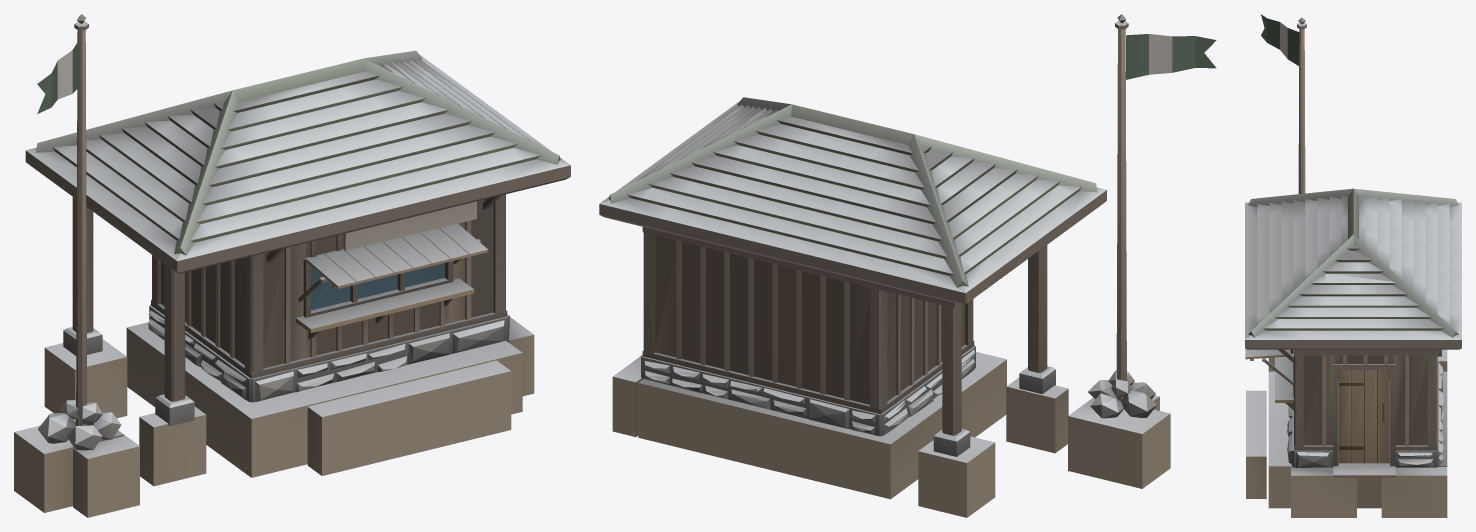
Rendered from ranger.glb.
The picture shows the model from 3 angles, left to right: view 1: azimuth 30°, elevation 25°; view 2: azimuth 150°, elevation 25°; view 3: azimuth 270°, elevation 25°; orthographic projection. The views are drawn at different scales.
Parts seen in each view (by area): view 1: ranger; view 2: ranger; view 3: ranger.
Part boxes in pixels (left/top/right/bottom): ranger: left=14, top=14, right=570, bottom=517; ranger: left=599, top=14, right=1216, bottom=517; ranger: left=1245, top=14, right=1461, bottom=517.
Size of the model in its own units: 9.56 by 8.43 by 4.8.
